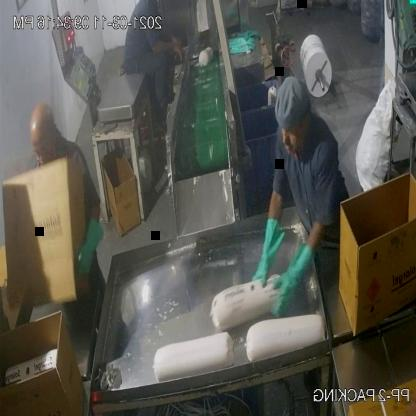glove: (264, 238, 318, 323), (249, 212, 288, 289), (74, 209, 106, 279)
no_glove: (152, 36, 186, 66)
